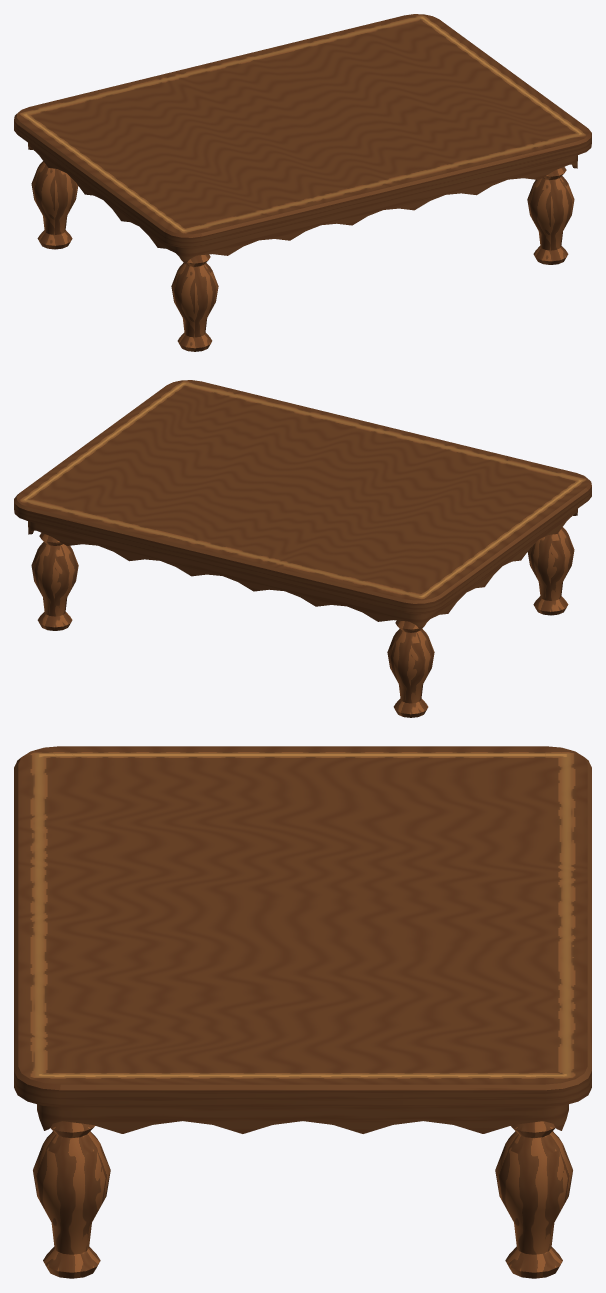
File: Table_Walnut.fbx
The picture shows the model from 3 angles, top to bottom: view 1: azimuth 30°, elevation 25°; view 2: azimuth 150°, elevation 25°; view 3: azimuth 270°, elevation 25°; orthographic projection. The views are drawn at different scales.
Visible parts, largest first — view 1: Table_Walnut; view 2: Table_Walnut; view 3: Table_Walnut.
Part boxes in pixels (<box>): Table_Walnut: <box>14,14,591,351</box>; Table_Walnut: <box>14,380,591,717</box>; Table_Walnut: <box>14,746,591,1278</box>.
Bounding box in the file's own units: 5.6 × 1.6 × 4.
Materials: 1 (1 with a texture image).
